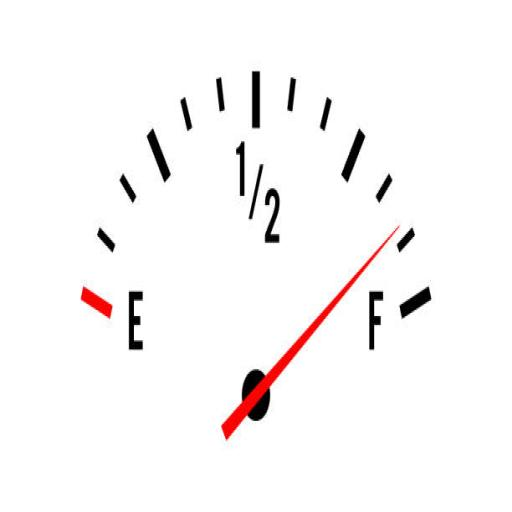empty: (126, 284, 146, 353)
full: (366, 284, 386, 354)
guage_area: (75, 33, 448, 445)
needle_center: (241, 361, 274, 431)
needle_tip: (386, 218, 403, 238)
